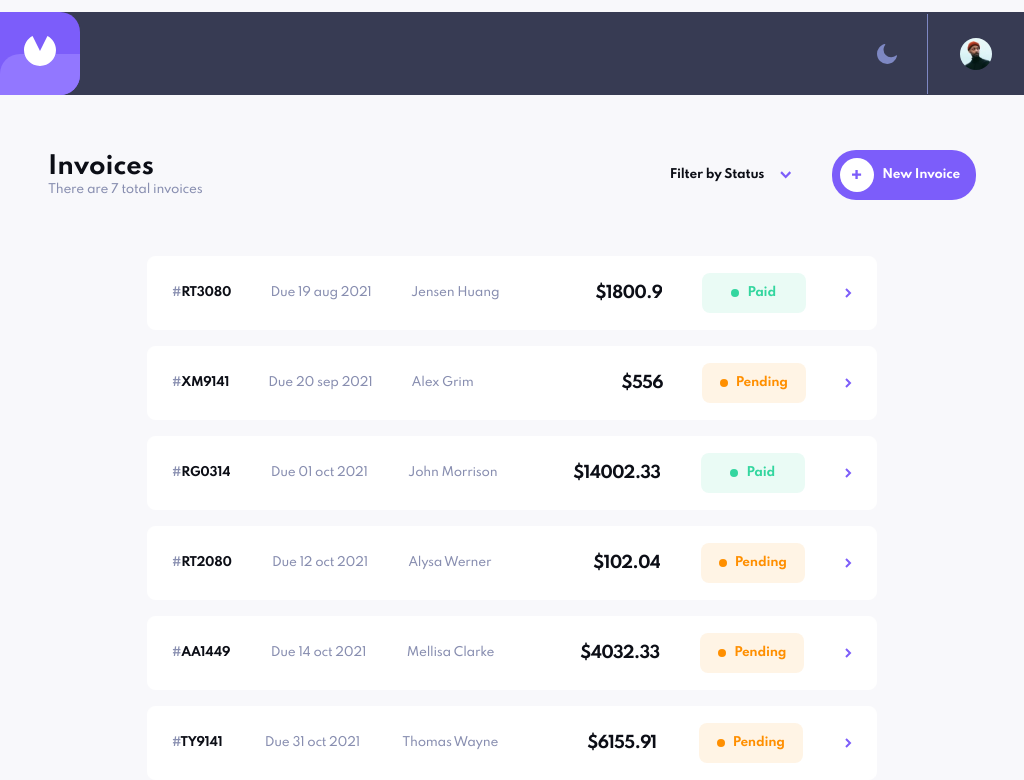
Testing InvoiceView component › Testing InvoiceView behavior › Testing changing status from "pending" to "paid
The width and height of the screenshot is (1024, 780).
Click the element with test id "invoice-short" that starts with "XM9141": (512, 383) [147,346,877,420]
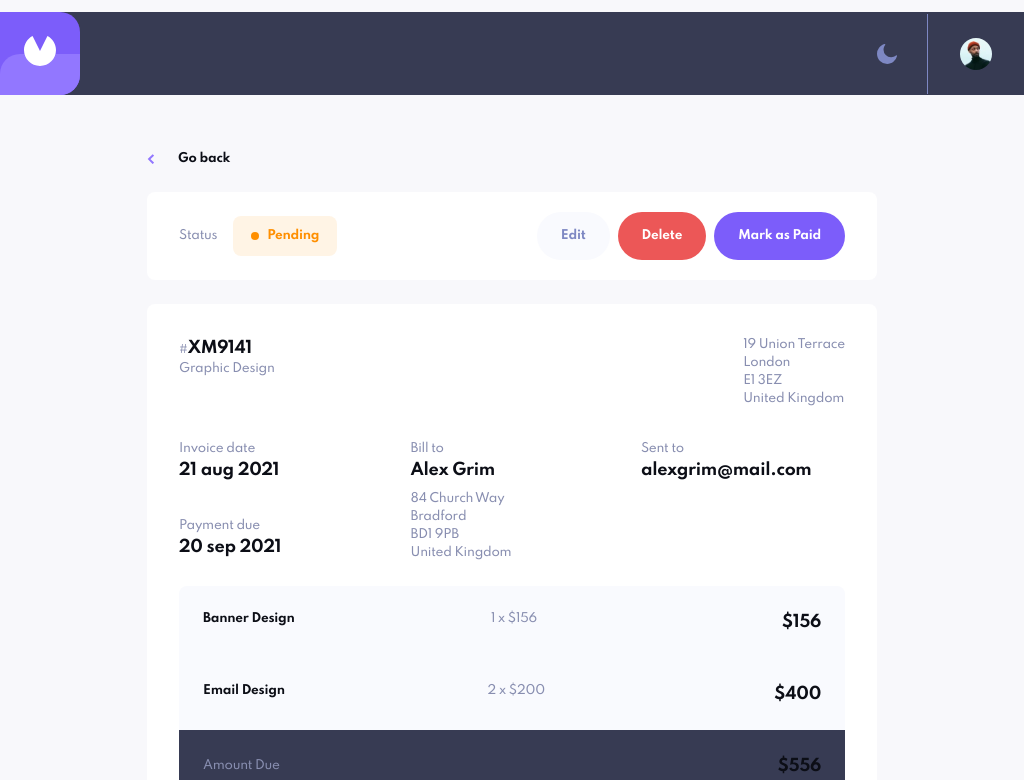
Expected: the element with test id "invoice-status" reads "pending", [267,229,319,242]
Click the button "Mark as Paid": (780, 236) [714,212,845,260]
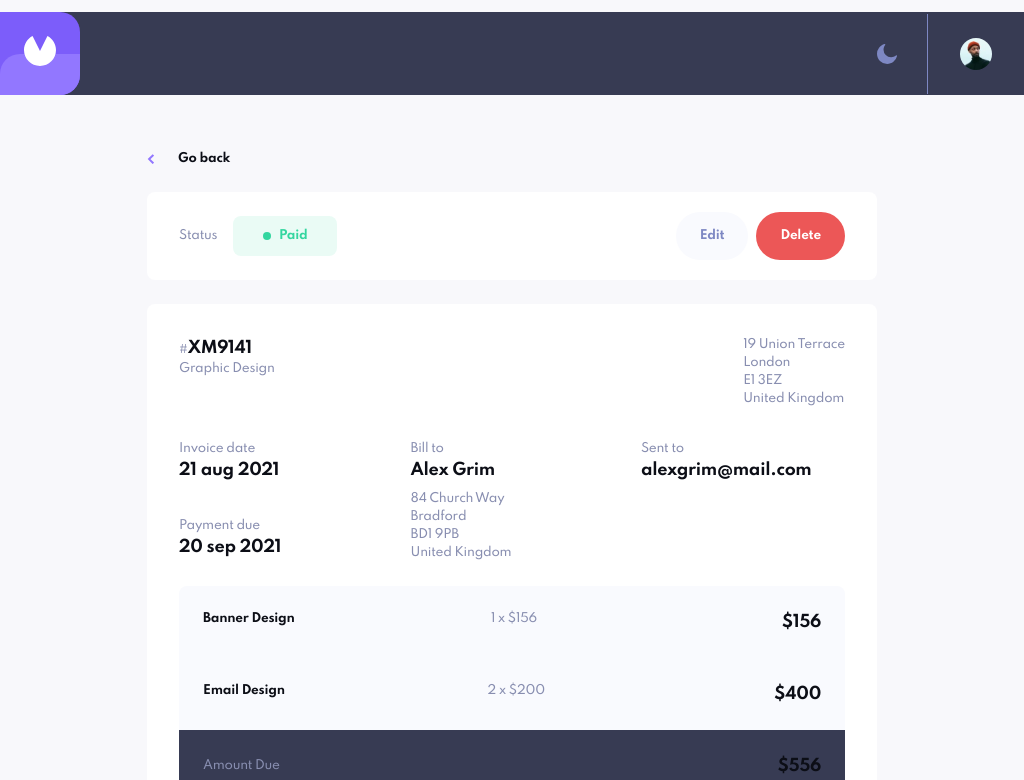
Result: the element with test id "invoice-status" reads "paid" at [279,229,308,242]
